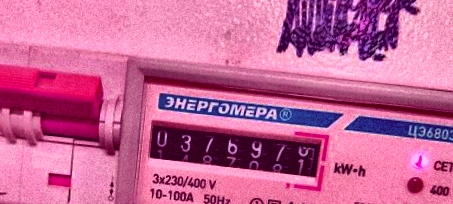0: (154, 127, 169, 148)
1: (294, 156, 307, 175)
3: (178, 131, 193, 152)
6: (225, 133, 240, 155)
7: (201, 132, 216, 154), (272, 140, 286, 163)
9: (248, 137, 262, 160)
screen: (138, 111, 334, 192)
